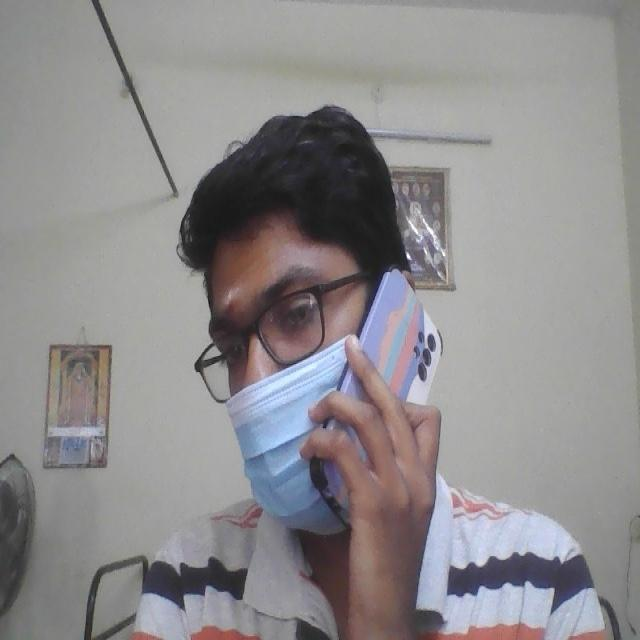Mobile: (329, 256, 460, 445)
